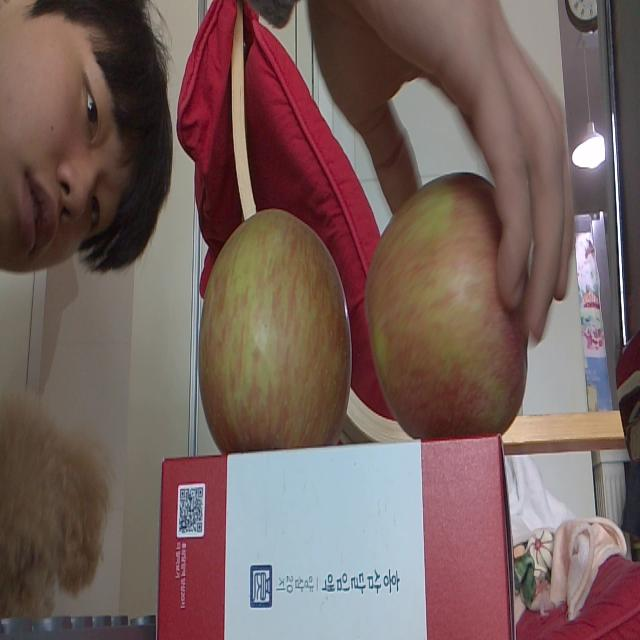apple: (369, 170, 535, 440), (199, 206, 351, 449)
